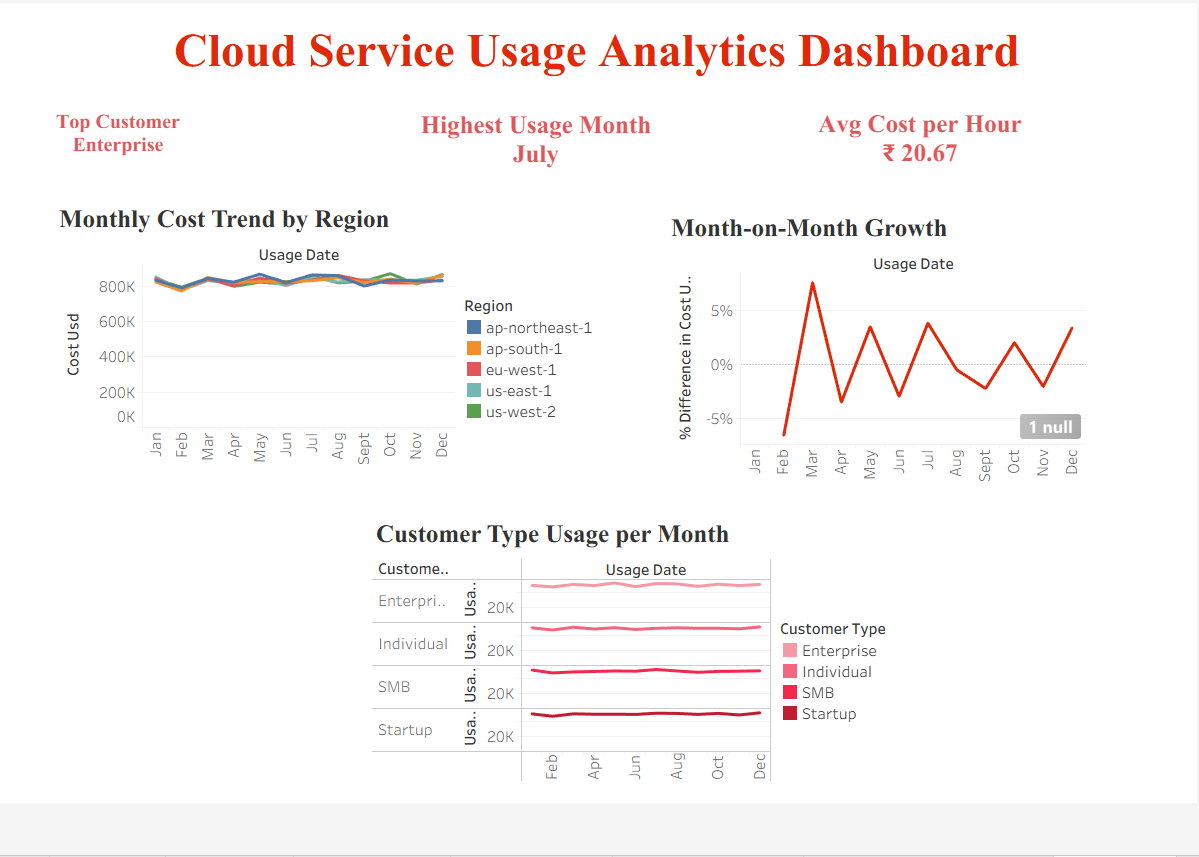

Layout of this report page (visuals, bound fields, positions):
{"tool":"tableau","page":{"name":"Cloud Usage","canvas":[1200,800],"ordinal":1},"visuals":[{"type":"text","box":[6,9,1188,78]},{"type":"worksheet","title":"Average Cost per Usage Hour","mark":"Automatic","box":[813,107,342,69]},{"type":"worksheet","title":"Top Customer","mark":"Automatic","box":[51,108,192,88]},{"type":"worksheet","title":"Highest Usage Month","mark":"Automatic","box":[419,108,305,74]},{"type":"worksheet","title":"Monthly Cost Trend by Region","mark":"Line","rows":["cost_usd"],"cols":["usage_date"],"box":[58,198,400,266]},{"type":"worksheet","title":"Month-on-Month Growth","mark":"Automatic","rows":["cost_usd"],"cols":["usage_date"],"box":[670,207,419,274]},{"type":"legend","title":"Monthly Cost Trend by Region","param":"[federated.0sla24l0xua8921c9k9n81rkmwc4].[none:region:nk]","box":[467,292,140,127]},{"type":"worksheet","title":"Customer Type Usage per Month","mark":"Line","rows":["customer_type","usage_hours"],"cols":["usage_date"],"box":[375,513,400,266]},{"type":"legend","title":"Customer Type Usage per Month","param":"[federated.0sla24l0xua8921c9k9n81rkmwc4].[none:customer_type:nk]","box":[783,615,140,106]}]}

Visuals, with their boxes on the page's 1200x800 design canvas (x1, y1, x2, y2). These are canvas units, not pixel positions in the 1199x857 screenshot, which may show the page scaled, cropped or inside an application window:
text: bbox=[6, 9, 1194, 87]
"Average Cost per Usage Hour" worksheet: bbox=[813, 107, 1155, 176]
"Top Customer" worksheet: bbox=[51, 108, 243, 196]
"Highest Usage Month" worksheet: bbox=[419, 108, 724, 182]
"Monthly Cost Trend by Region" worksheet (Line marks): bbox=[58, 198, 458, 464]
"Month-on-Month Growth" worksheet: bbox=[670, 207, 1089, 481]
"Monthly Cost Trend by Region" legend: bbox=[467, 292, 607, 419]
"Customer Type Usage per Month" worksheet (Line marks): bbox=[375, 513, 775, 779]
"Customer Type Usage per Month" legend: bbox=[783, 615, 923, 721]
